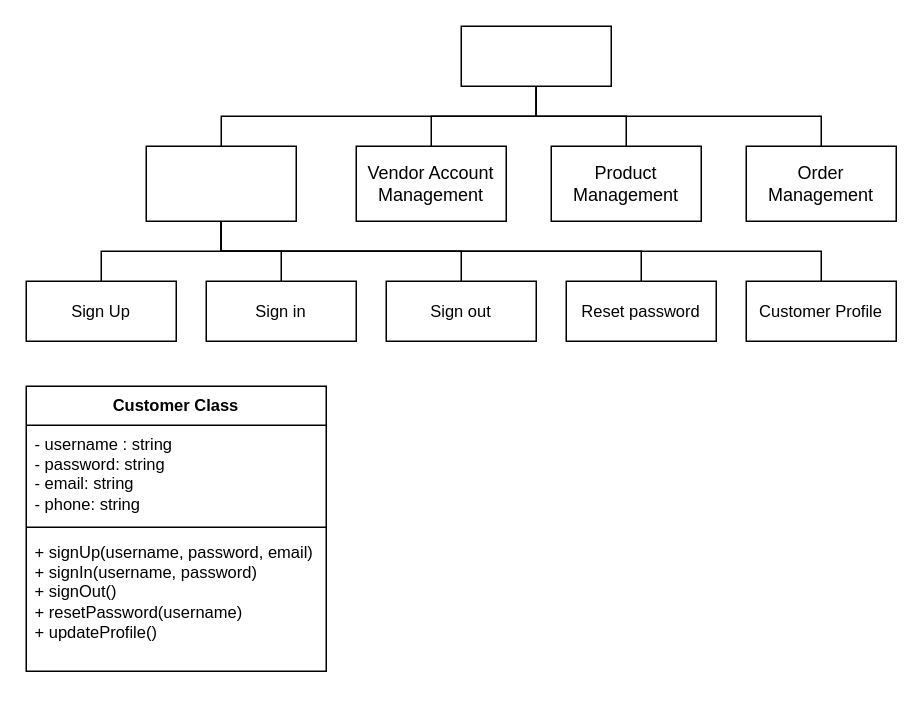
The diagram is 923 pixels wide and 702 high, and some of its shapes have lost their labels. The centre of each missing label's shape, as x and y in pixels:
Customer Account Management: pixel 220 183
Online shopping web application: pixel 535 55
